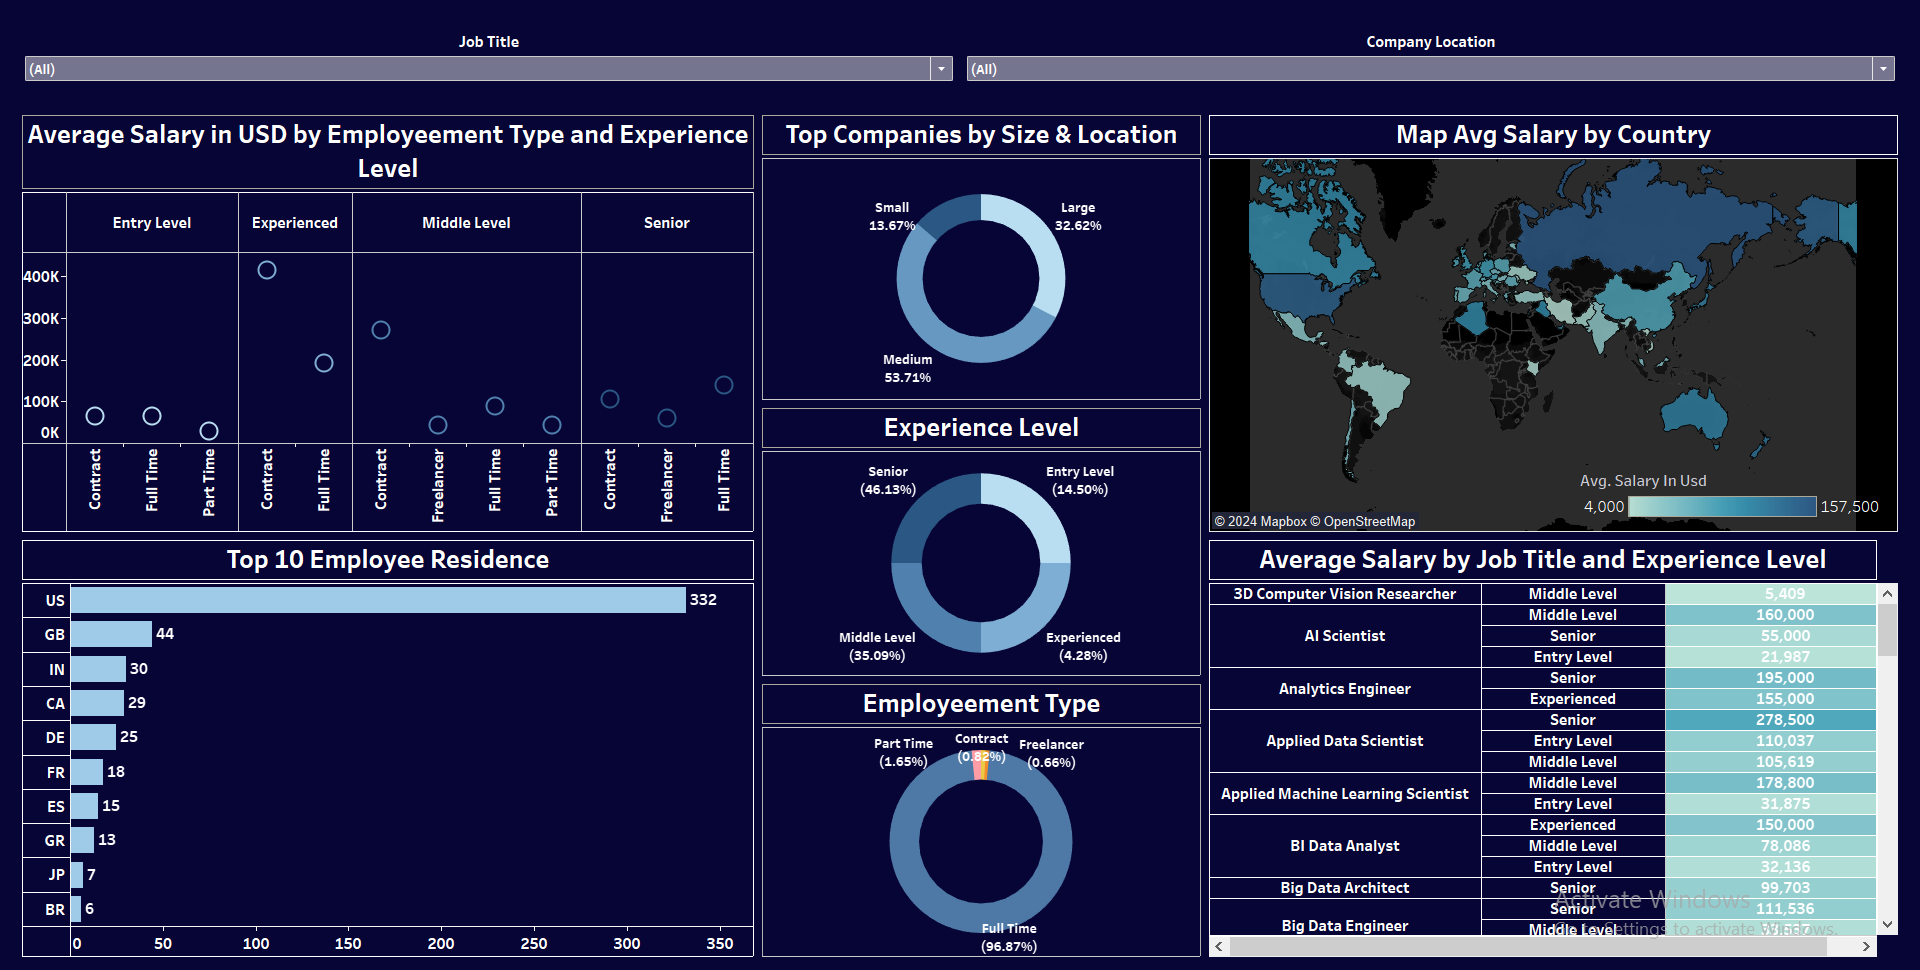

The dashboard page shown, as its layout file describes it:
{"tool":"tableau","page":{"name":"Dashboard 1","canvas":[1900,950],"ordinal":0},"visuals":[{"type":"filter","title":"AVerage Salary in USD by Employeement Type and Experience Level","param":"[federated.02elnd21d4sn1i135r3bc0vvrvgq].[none:job_title:nk]","box":[8,8,942,61]},{"type":"filter","title":"AVerage Salary in USD by Employeement Type and Experience Level","param":"[federated.02elnd21d4sn1i135r3bc0vvrvgq].[none:company_location:nk]","box":[950,8,942,61]},{"type":"worksheet","title":"AVerage Salary in USD by Employeement Type and Experience Level","mark":"Shape","rows":["salary_in_usd"],"cols":["experience_level","employment_type"],"box":[8,92,740,425]},{"type":"worksheet","title":"Top Companies by Size & Location","mark":"Pie","rows":["Calculation_725923987688173569","Calculation_725923987688173569"],"box":[748,92,447,293]},{"type":"worksheet","title":"Map Avg Salary by Country","mark":"Automatic","box":[1195,92,697,425]},{"type":"worksheet","title":"Experience Level","mark":"Pie","rows":["Calculation_725923987688173569","Calculation_725923987688173569"],"box":[748,385,447,275.7]},{"type":"legend","title":"Map Avg Salary by Country","param":"[federated.02elnd21d4sn1i135r3bc0vvrvgq].[avg:salary_in_usd:qk]","box":[1570,451,304,76]},{"type":"worksheet","title":"Top 10 Employee Residence","mark":"Automatic","rows":["employee_residence"],"cols":["employee_residence"],"box":[8,517,740,425]},{"type":"worksheet","title":"Average Salary by Job Title and Experience Level","mark":"Square","rows":["job_title","experience_level"],"box":[1195,517,697,425]},{"type":"worksheet","title":"Employeement Type","mark":"Pie","rows":["Calculation_725923987688173569","Calculation_725923987688173569"],"box":[748,660.7,447,281.3]}]}

Visuals, with their boxes in screenshot pixels (x1, y1, x2, y2), scaled from the page's 1900x950 canvas onto the 1920x970 screenshot:
"AVerage Salary in USD by Employeement Type and Experience Level" filter: 8 8 960 70
"AVerage Salary in USD by Employeement Type and Experience Level" filter: 960 8 1912 70
"AVerage Salary in USD by Employeement Type and Experience Level" worksheet (Shape marks): 8 94 756 528
"Top Companies by Size & Location" worksheet (Pie marks): 756 94 1208 393
"Map Avg Salary by Country" worksheet: 1208 94 1912 528
"Experience Level" worksheet (Pie marks): 756 393 1208 675
"Map Avg Salary by Country" legend: 1587 460 1894 538
"Top 10 Employee Residence" worksheet: 8 528 756 962
"Average Salary by Job Title and Experience Level" worksheet (Square marks): 1208 528 1912 962
"Employeement Type" worksheet (Pie marks): 756 675 1208 962
